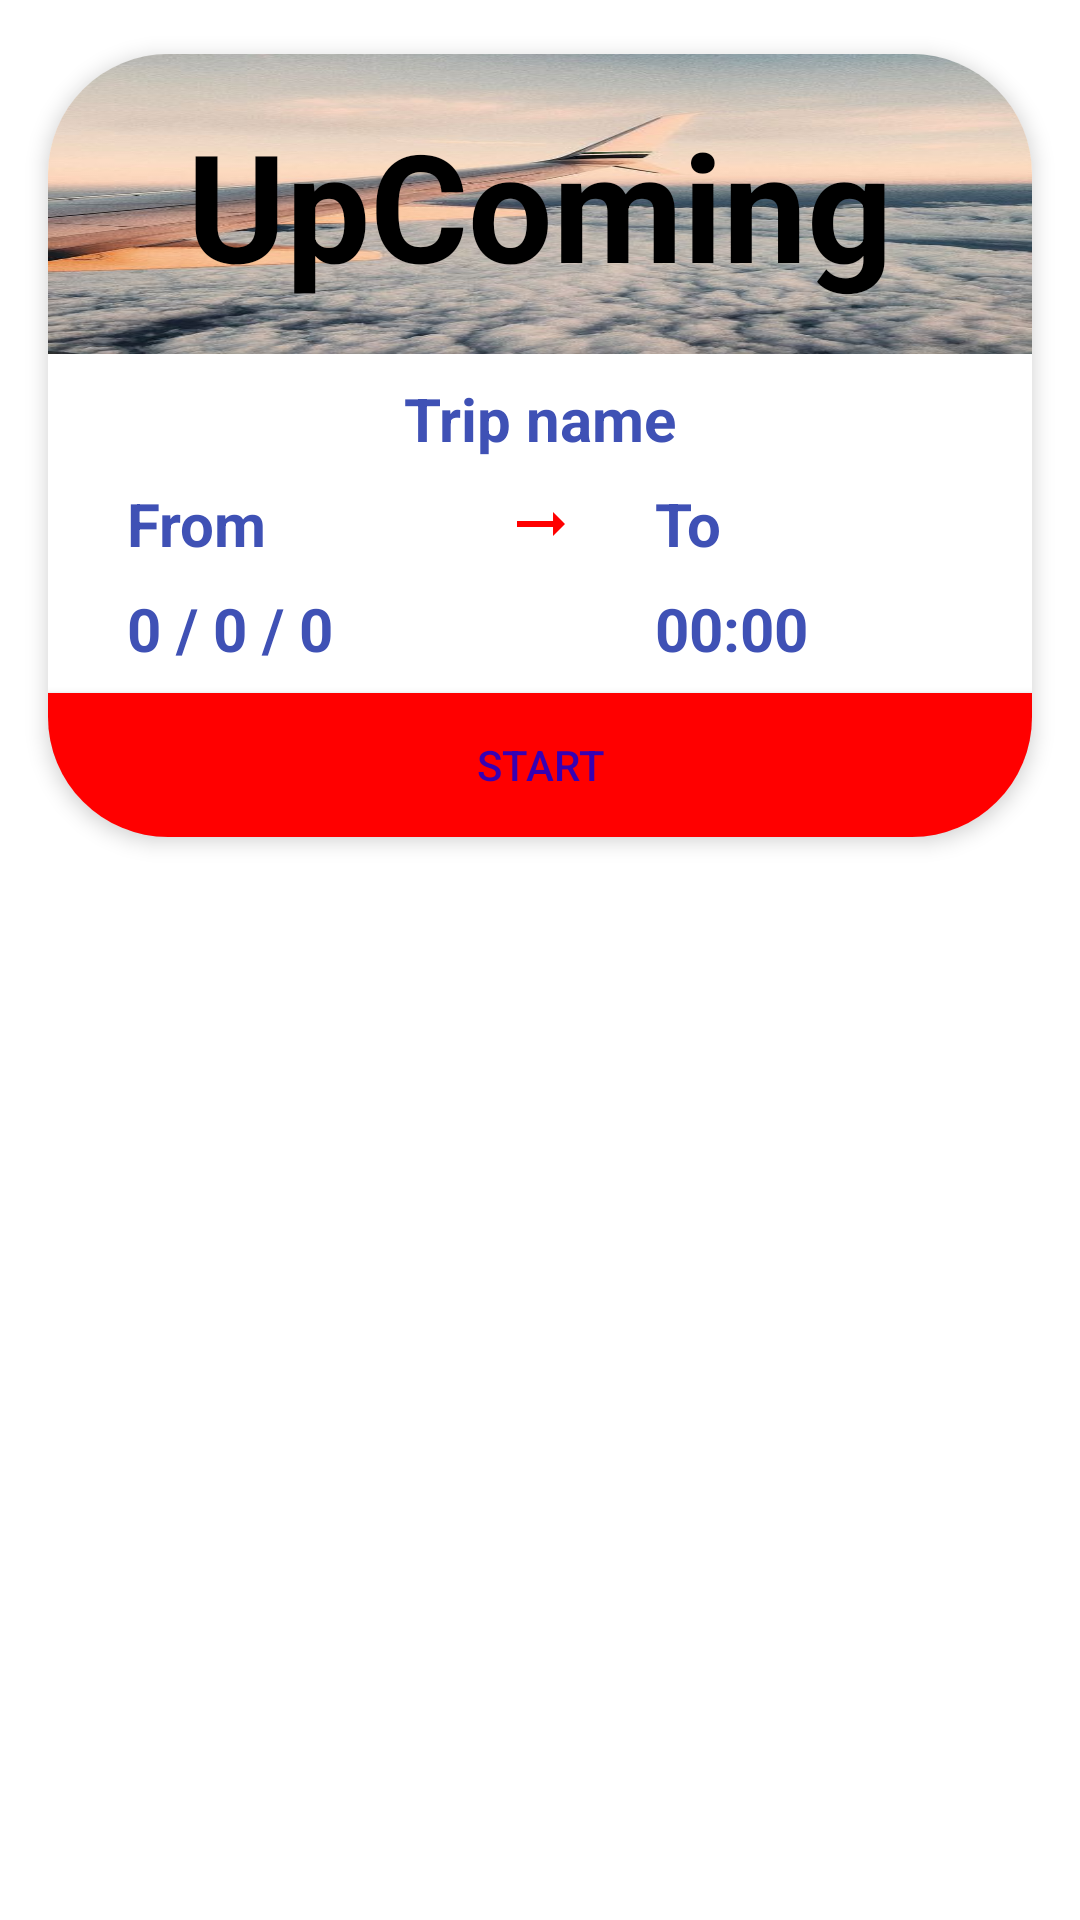

Icons on this 1080px×1920px Android screen, each with the point to tap as point (x, y):
arrow to: point (541, 524)
